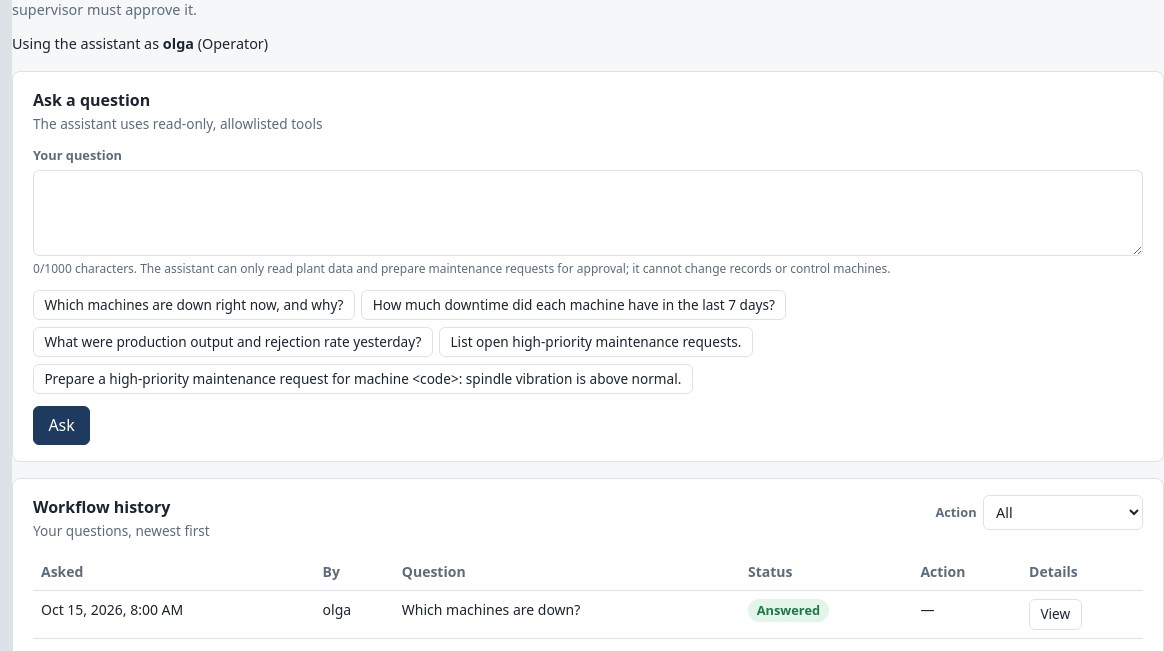
Test: AssistantPage — questions › opens a past workflow from the history
expect the text "Using the assistant as olga (Operator)" is shown: met, box [12,33,268,55]
expect the table named "Workflow sessions" shows "Which machines are down?": met, box [402,600,580,620]
Click the button with aria-label "View workflow 3" at (1055, 615), box [1029,600,1082,630]
(page scrolled)
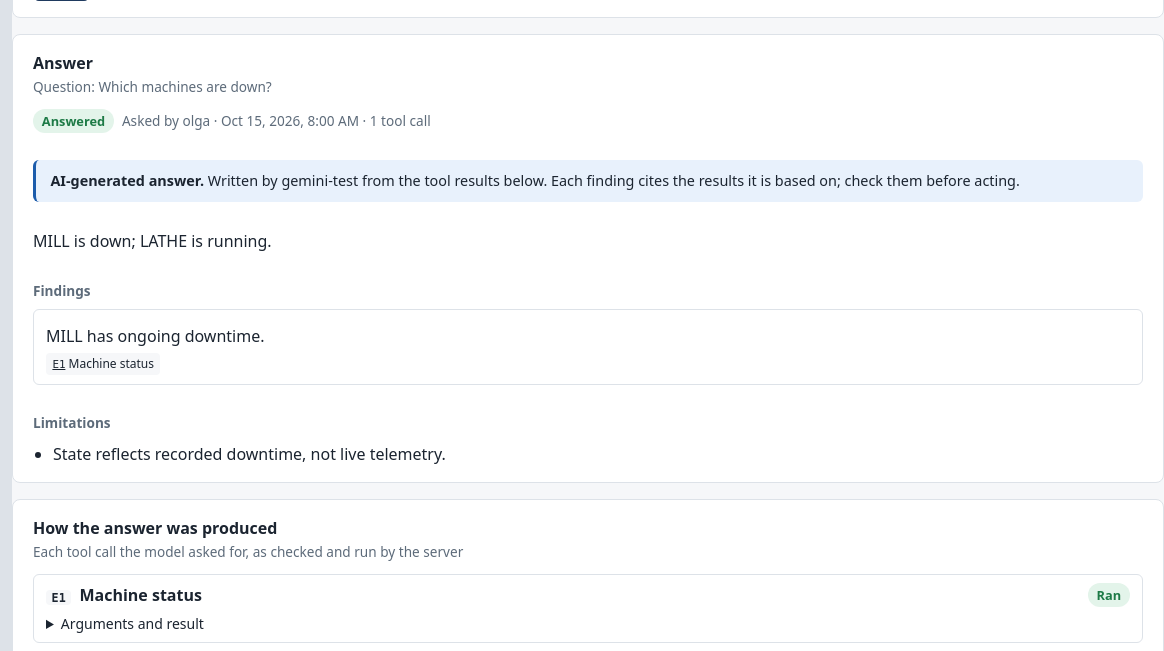
expect the element named "Answer 3" is shown: met, box [33,145,1143,466]
